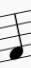F: (8, 9, 24, 62)
